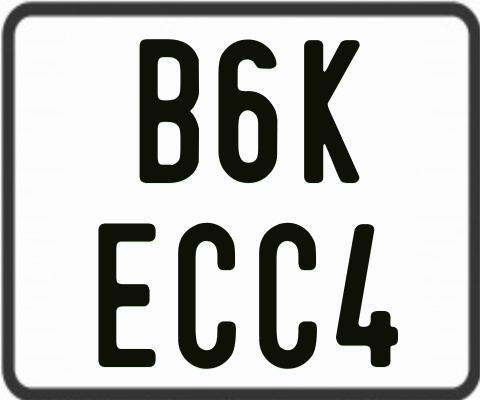4: (335, 224, 398, 372)
6: (218, 38, 281, 182)
B: (139, 39, 202, 189)
C: (256, 220, 320, 372), (176, 223, 239, 371)
E: (98, 223, 160, 371)
K: (303, 37, 360, 182)
